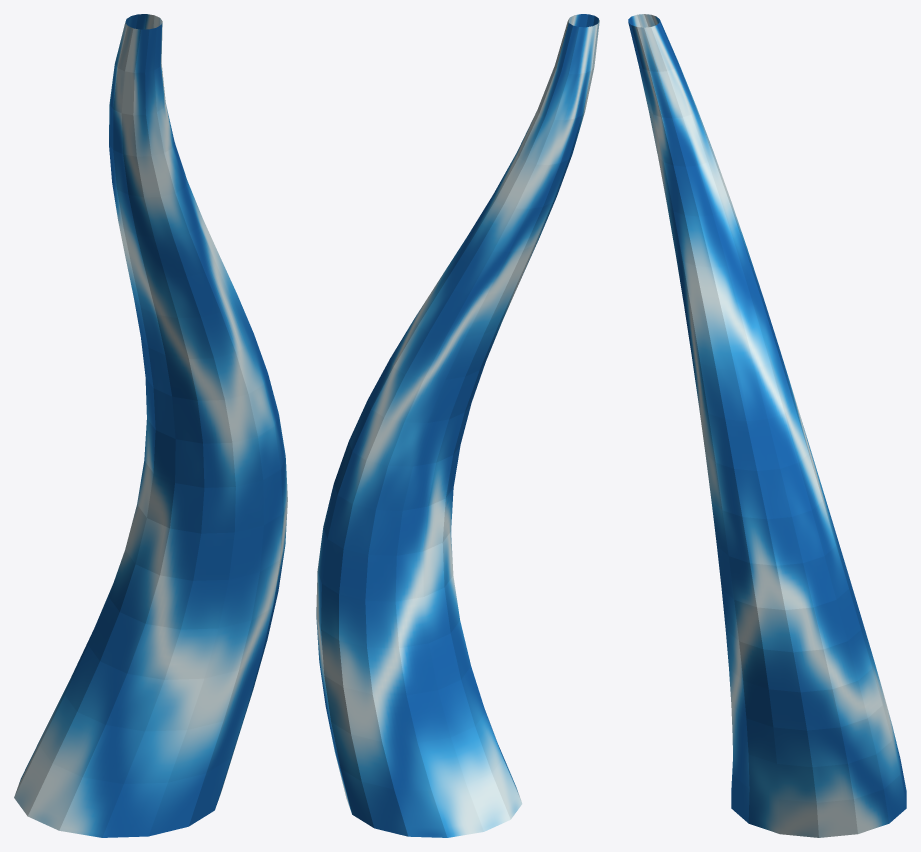
Rendered from vfx_octopus_tentacle.obj.
3 renders of one model, left to right at view 1: azimuth 30°, elevation 25°; view 2: azimuth 150°, elevation 25°; view 3: azimuth 270°, elevation 25°, orthographic. The views are drawn at different scales.
Size of the model in its own units: 0.4694 by 1.65 by 0.5571.
